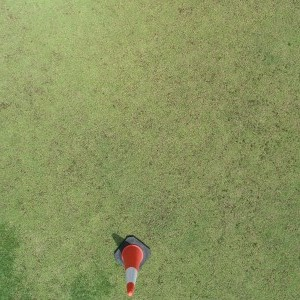traffic cone: (113, 234, 151, 296)
